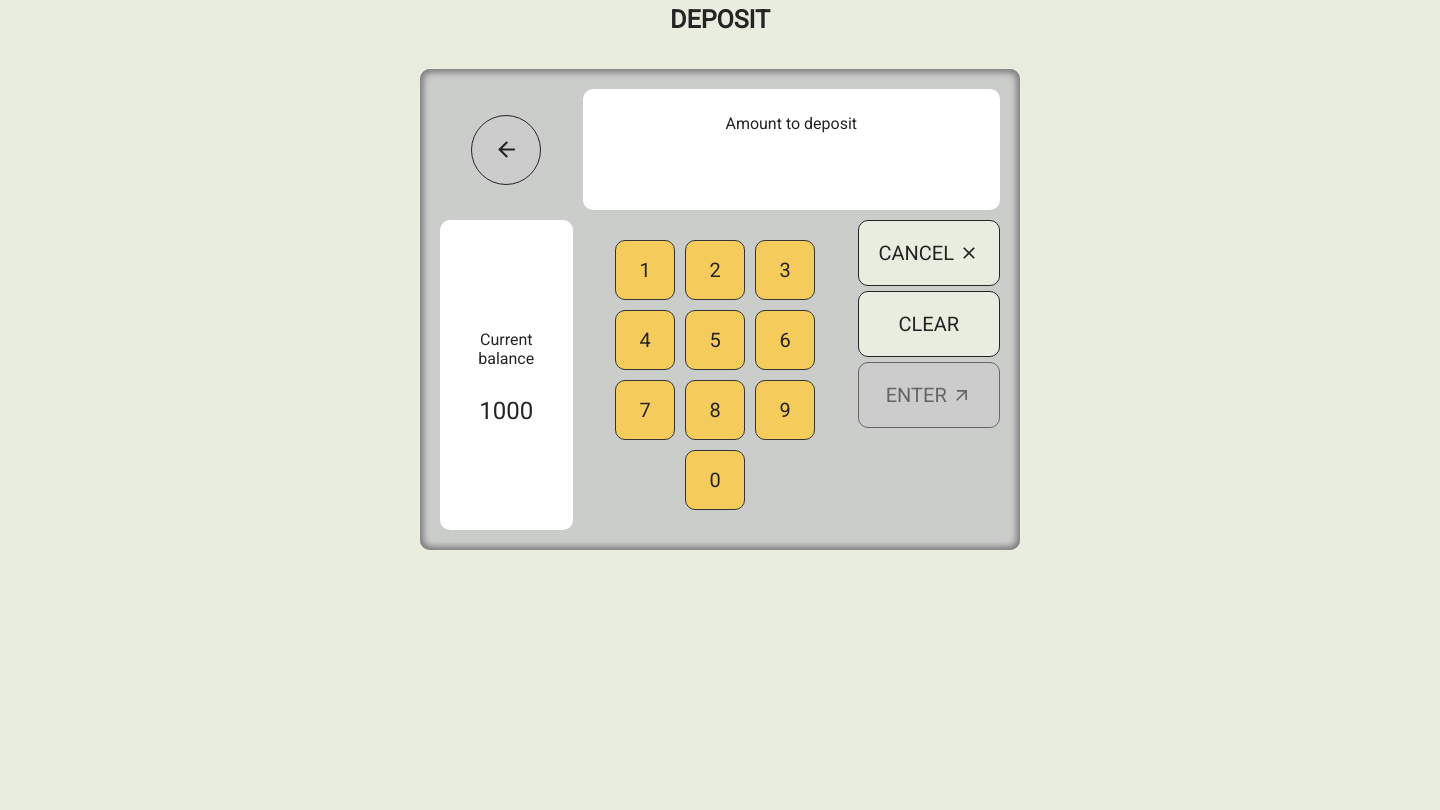
Transaction Component › shows confirmation modal on CANCEL click
Click the button "CANCEL" at [929, 253], box [858,220,1000,286]
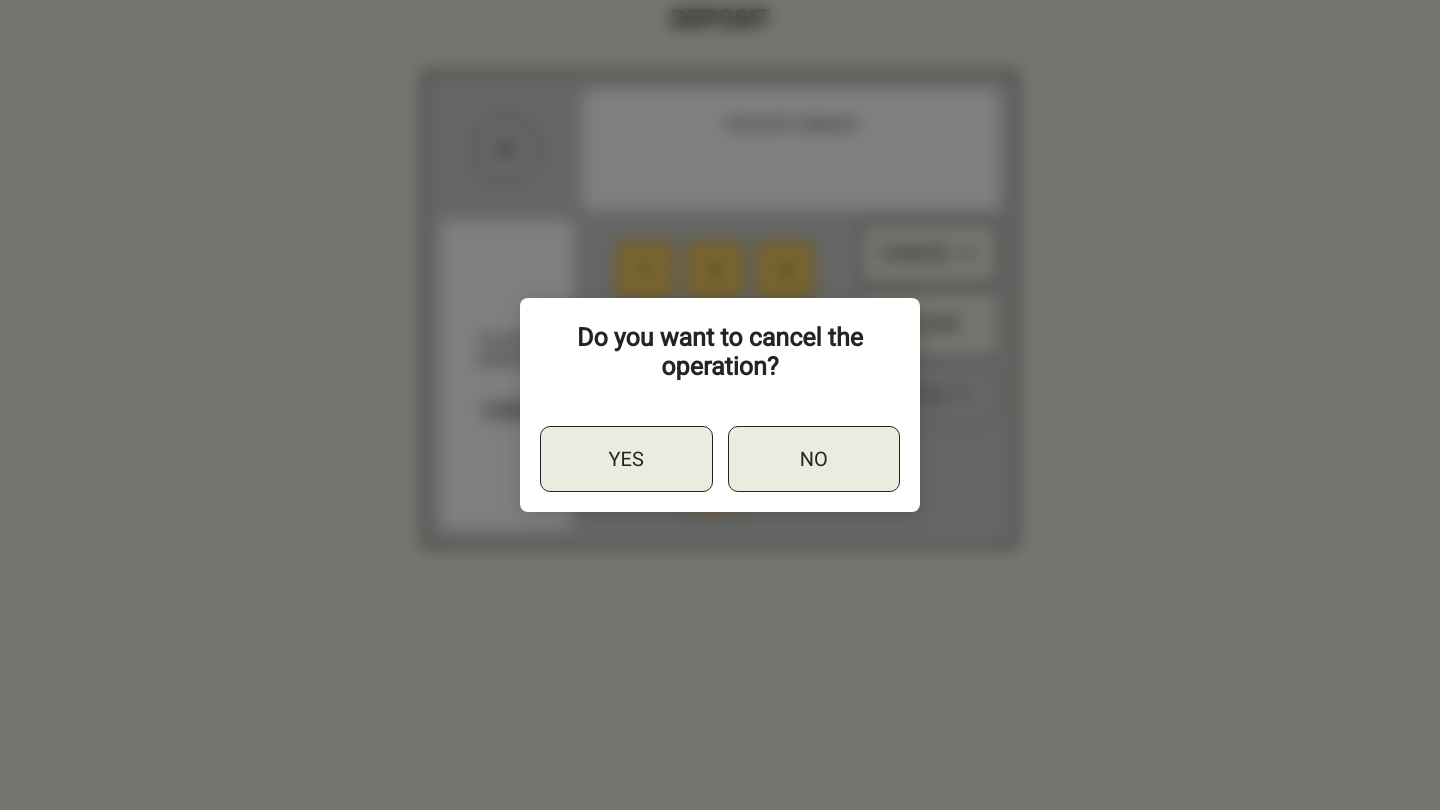
Expected: the dialog is shown
